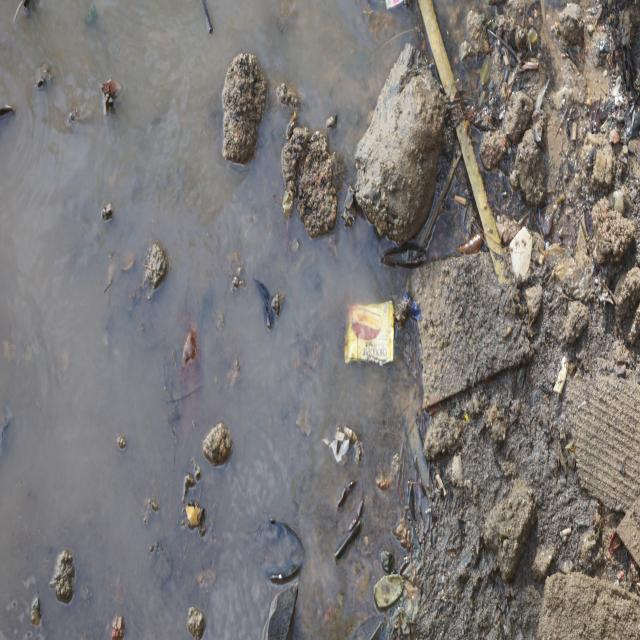Bungkus Makanan: (341, 294, 400, 376)
